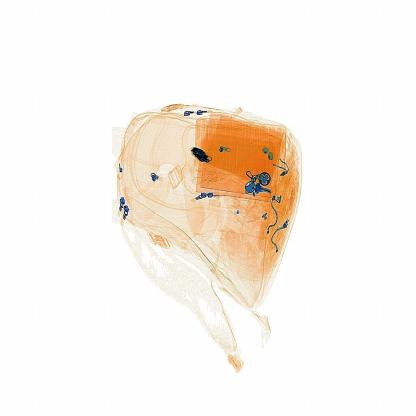scissors: (180, 143, 221, 175)
